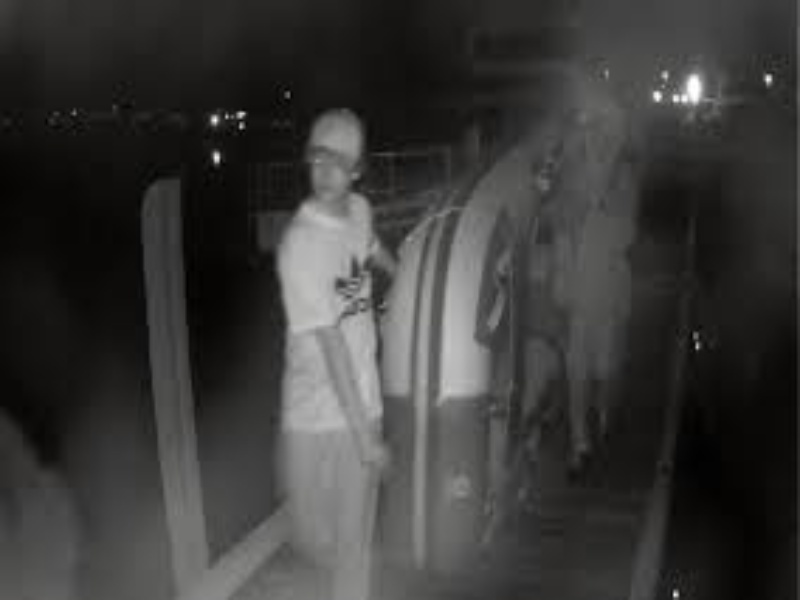person: (265, 100, 407, 600)
